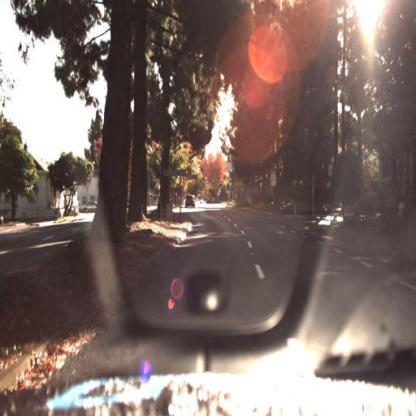car: (80, 200, 101, 217), (184, 194, 198, 212)
trafficLight: (224, 180, 234, 194)
trafficLight-Green: (201, 171, 207, 187)
